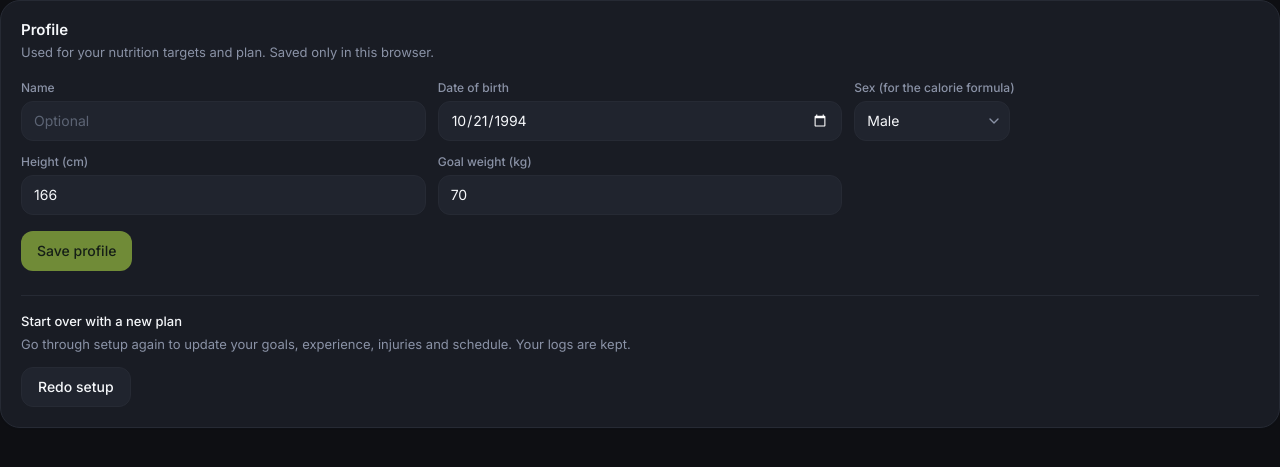
ProfileCard › rejects a date of birth in the future
In the date field labelled "Date of birth": (640, 120) [438,100,842,140], type "2099-01-01"
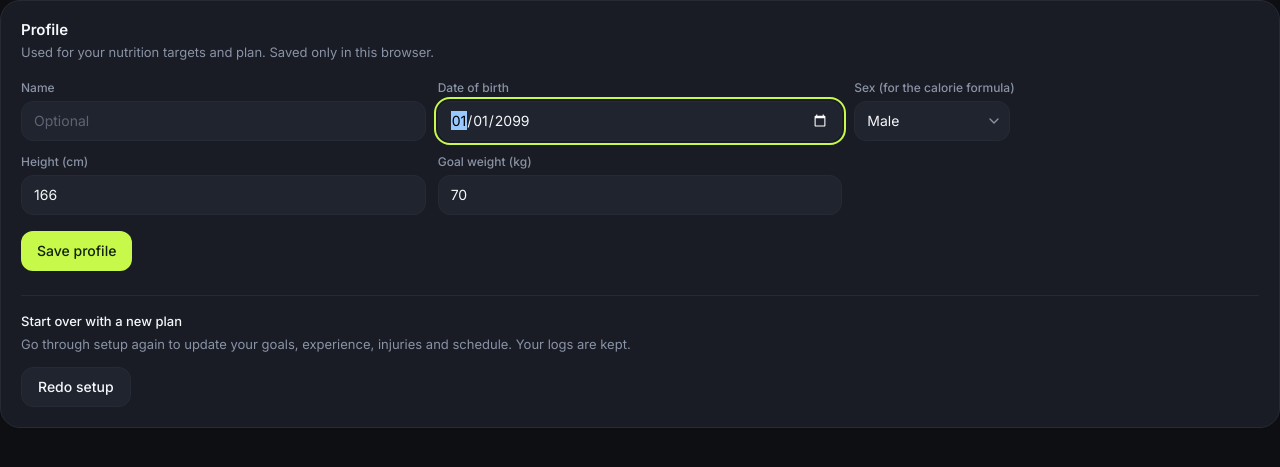
Click the button "Save profile": click(77, 250) [21,230,132,270]
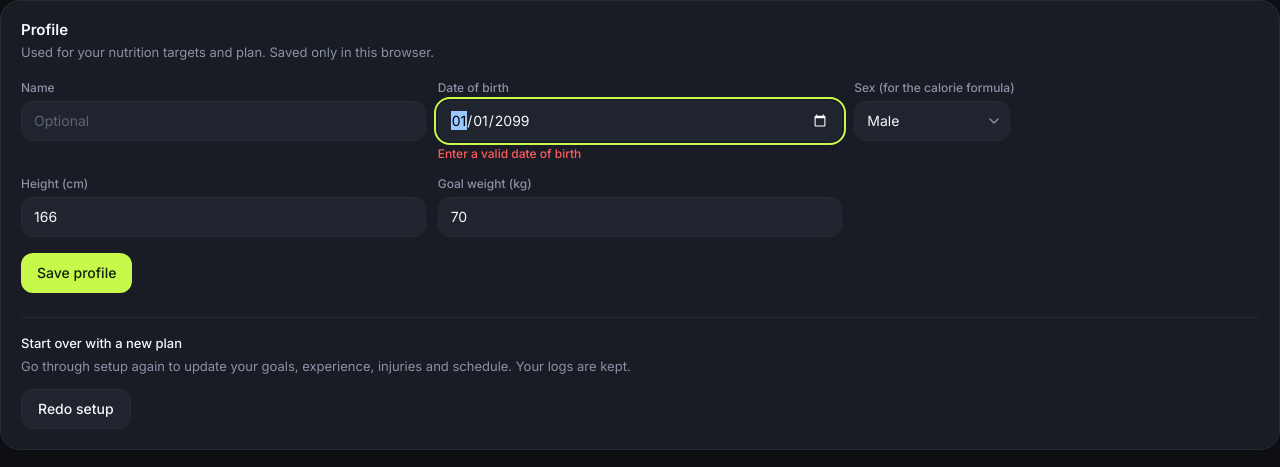
Expected: the text "Enter a valid date of birth" is shown, [438,146,581,160]
